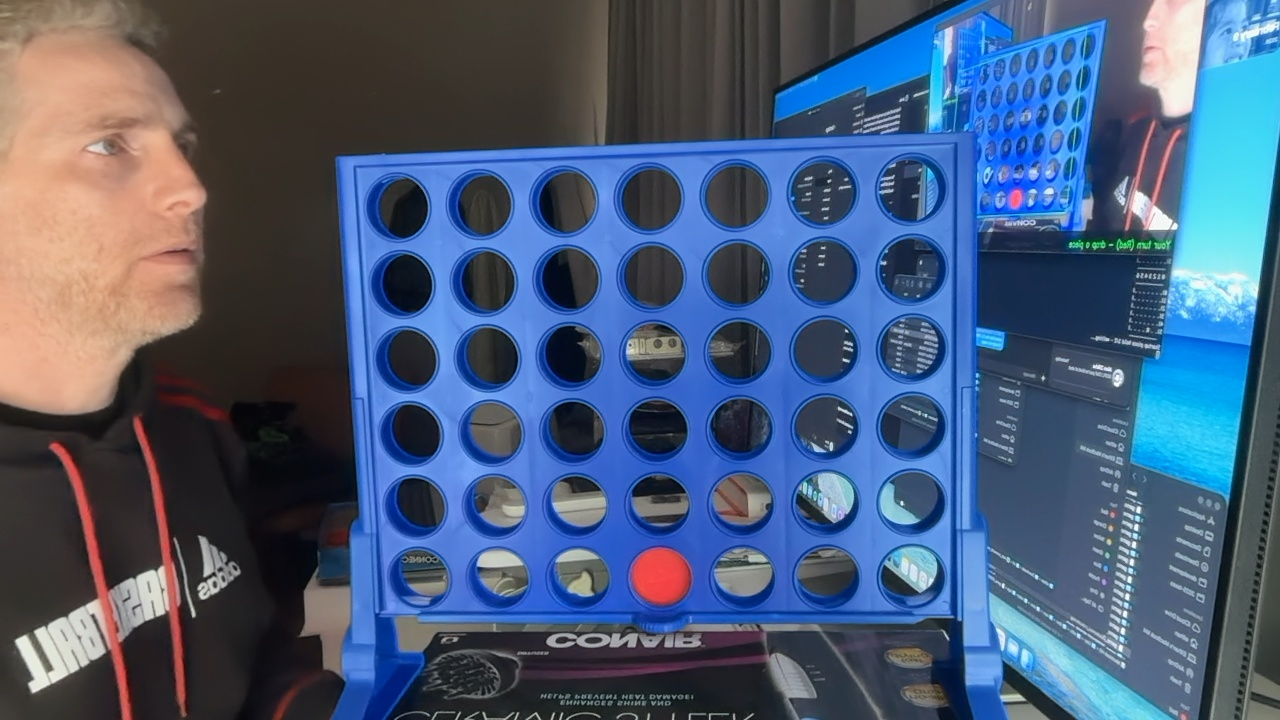red piece: (630, 547, 691, 605)
